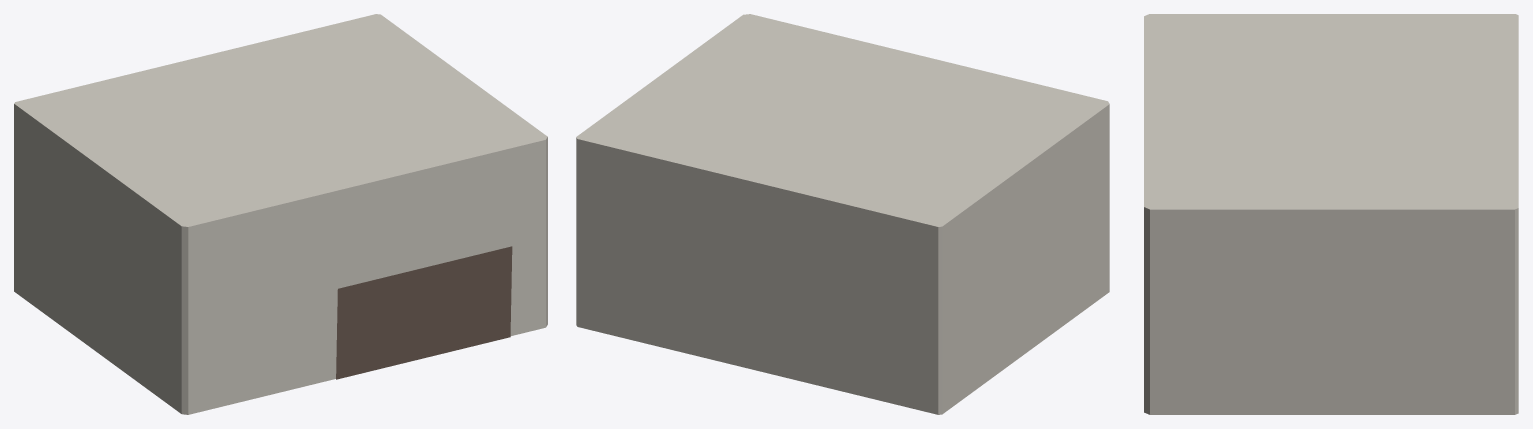
File: loin-etape-1.glb
3 renders of one model, left to right at view 1: azimuth 30°, elevation 25°; view 2: azimuth 150°, elevation 25°; view 3: azimuth 270°, elevation 25°, orthographic. The views are drawn at different scales.
Parts seen in each view (by area): view 1: loin; view 2: loin; view 3: loin.
Boxes of the visible parts, x1,y1,x2,y2 form: loin: (14, 14, 547, 414); loin: (576, 14, 1109, 414); loin: (1144, 14, 1518, 414).
Bounding box in the file's own units: 0.7931 × 0.3887 × 0.6523.
